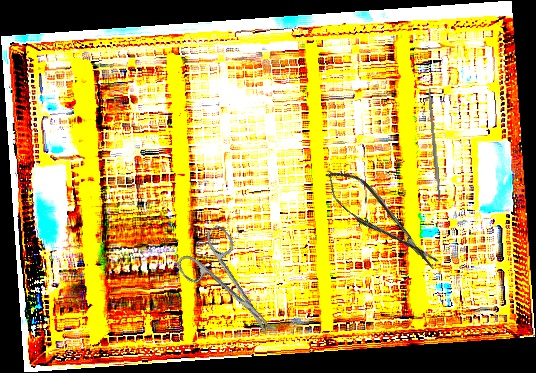Iris Scissors: (171, 222, 292, 353)
Micro Scissor: (317, 158, 446, 282)
Scalpel Handle: (426, 88, 442, 201)
